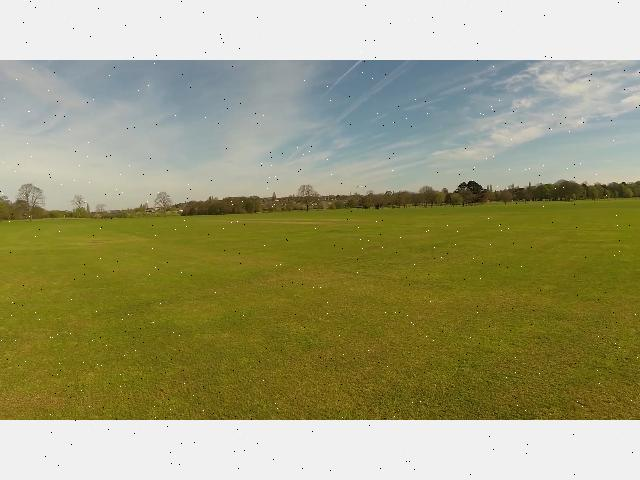Anti-Drone: (353, 184, 367, 190)
